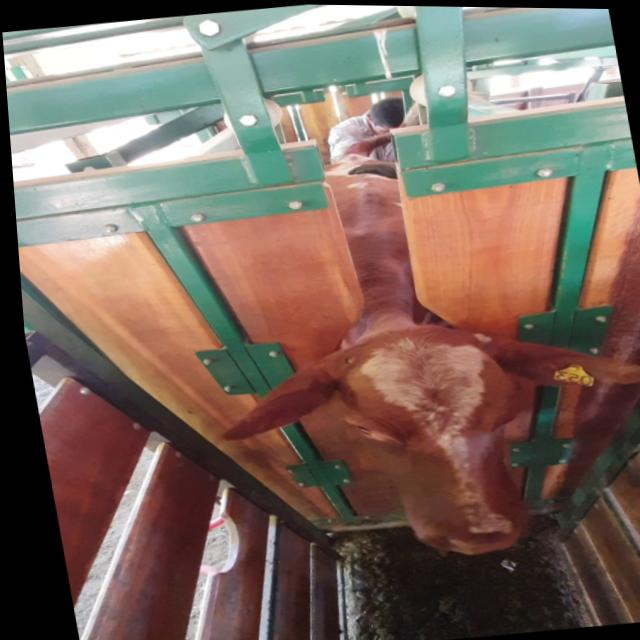cowFace: (316, 314, 542, 567)
